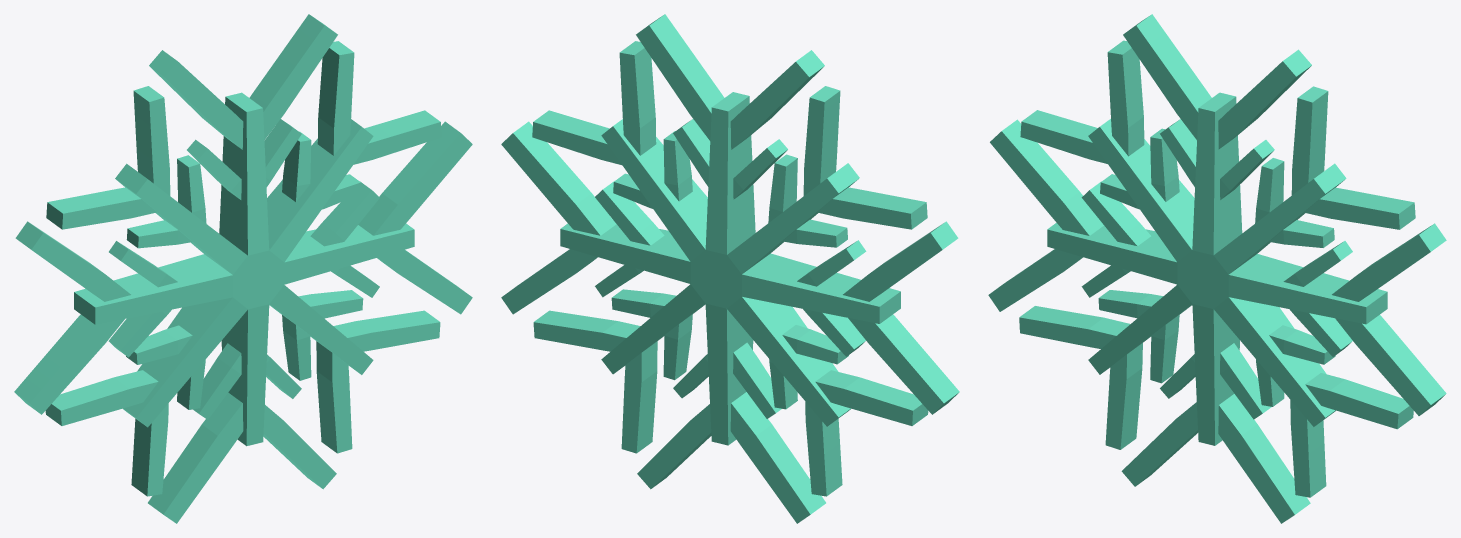
The model's file is snowflake1.glb.
The picture shows the model from 3 angles, left to right: view 1: azimuth 30°, elevation 25°; view 2: azimuth 150°, elevation 25°; view 3: azimuth 330°, elevation 25°; orthographic projection.
Parts seen in each view (by area): view 1: Snowflake1; view 2: Snowflake1; view 3: Snowflake1.
Boxes of the visible parts, x1,y1,x2,y2 form: Snowflake1: [14, 14, 472, 523]; Snowflake1: [501, 14, 959, 523]; Snowflake1: [988, 14, 1446, 523].
Bounding box in the file's own units: 0.8962 × 0.8962 × 0.1008.
